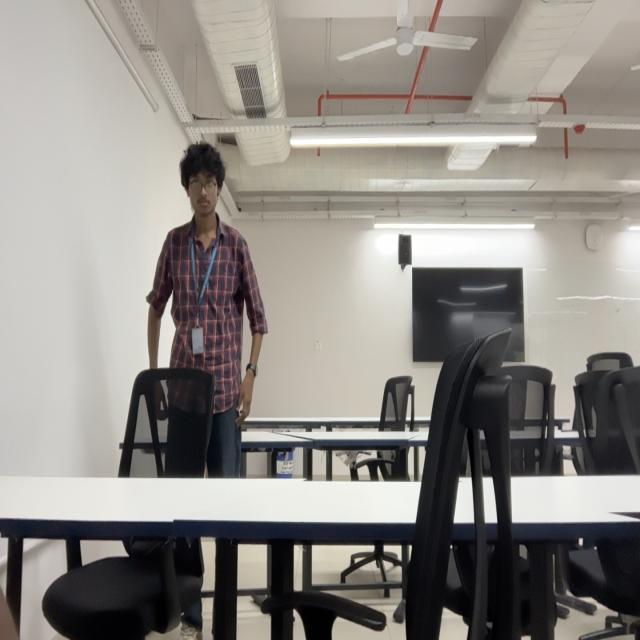darshan: (178, 141, 227, 217)
